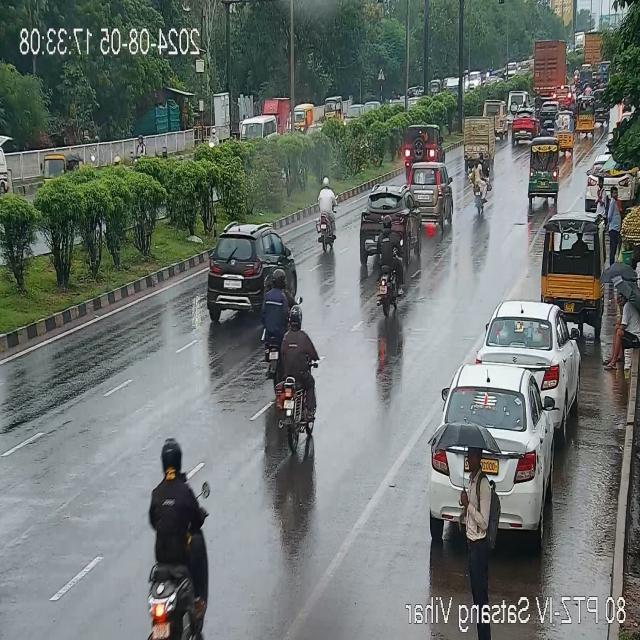2-wheelers: (144, 428, 210, 640), (266, 306, 320, 448), (368, 218, 406, 320), (312, 182, 338, 256), (471, 154, 488, 214), (572, 68, 594, 104)
auto: (538, 216, 606, 324), (526, 136, 570, 202), (407, 166, 451, 230), (44, 146, 80, 193), (355, 208, 383, 265), (552, 113, 576, 148), (575, 99, 595, 139)
car: (436, 366, 556, 528), (482, 306, 574, 415), (198, 228, 300, 322), (482, 100, 508, 136), (510, 108, 538, 138), (538, 100, 558, 130), (503, 90, 531, 110), (554, 79, 572, 108)
pedestrian: (457, 446, 500, 592), (601, 288, 640, 375), (608, 183, 623, 261), (596, 174, 606, 218)
truck: (532, 38, 564, 100), (459, 116, 495, 164)
